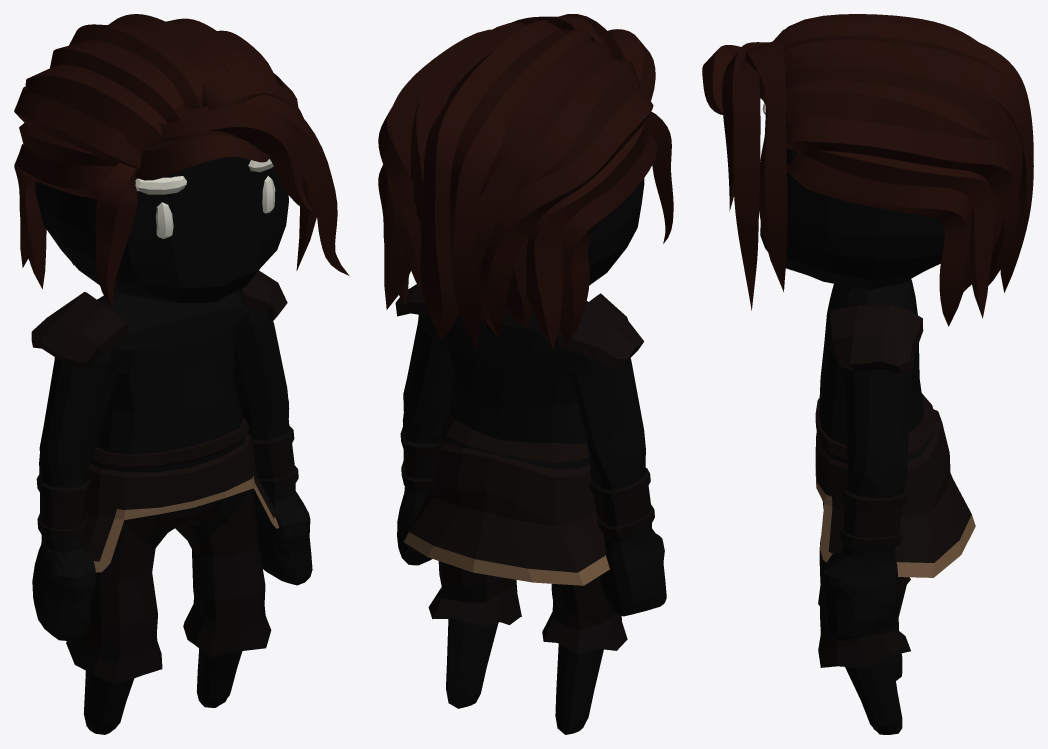
File: Viking_Female.obj
3 views of the same model, side by side, from view 1: azimuth 30°, elevation 25°; view 2: azimuth 150°, elevation 25°; view 3: azimuth 270°, elevation 25° (orthographic). The views are drawn at different scales.
Parts seen in each view (by area): view 1: Body_Cube.004; view 2: Body_Cube.004; view 3: Body_Cube.004.
Part boxes in pixels (x1,y1,x2,y2): Body_Cube.004: (14, 14, 349, 734); Body_Cube.004: (378, 14, 673, 734); Body_Cube.004: (702, 14, 1033, 734).
Size of the model in its own units: 1.29 by 3.17 by 1.41.
